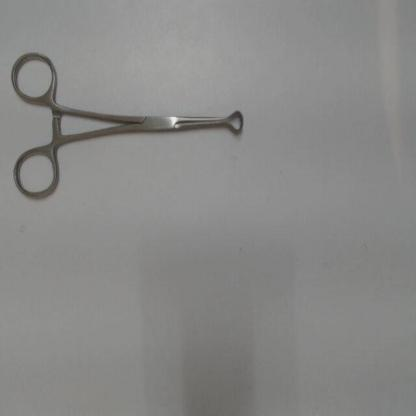Babcock Tissue Forceps: (8, 44, 247, 202)
